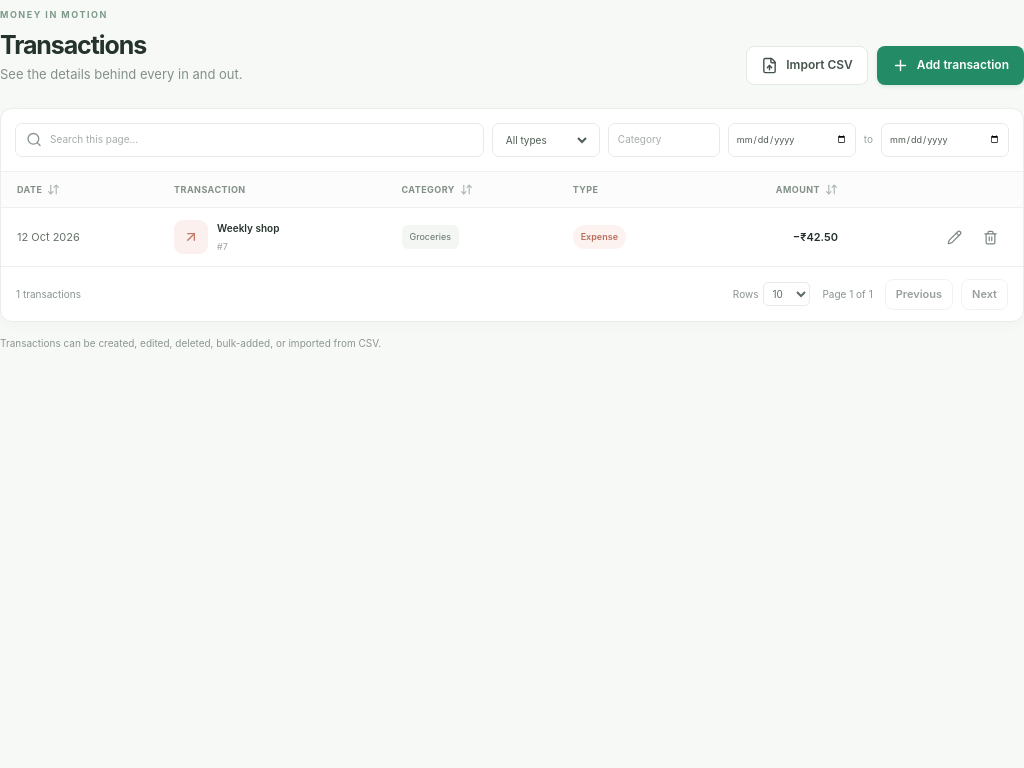
Test: TransactionsPage actions › prepopulates and saves an edited transaction, then refreshes the list
Click the button named "Edit Groceries transaction" at (954, 237), box top-left (937, 220), bottom-right (971, 254)
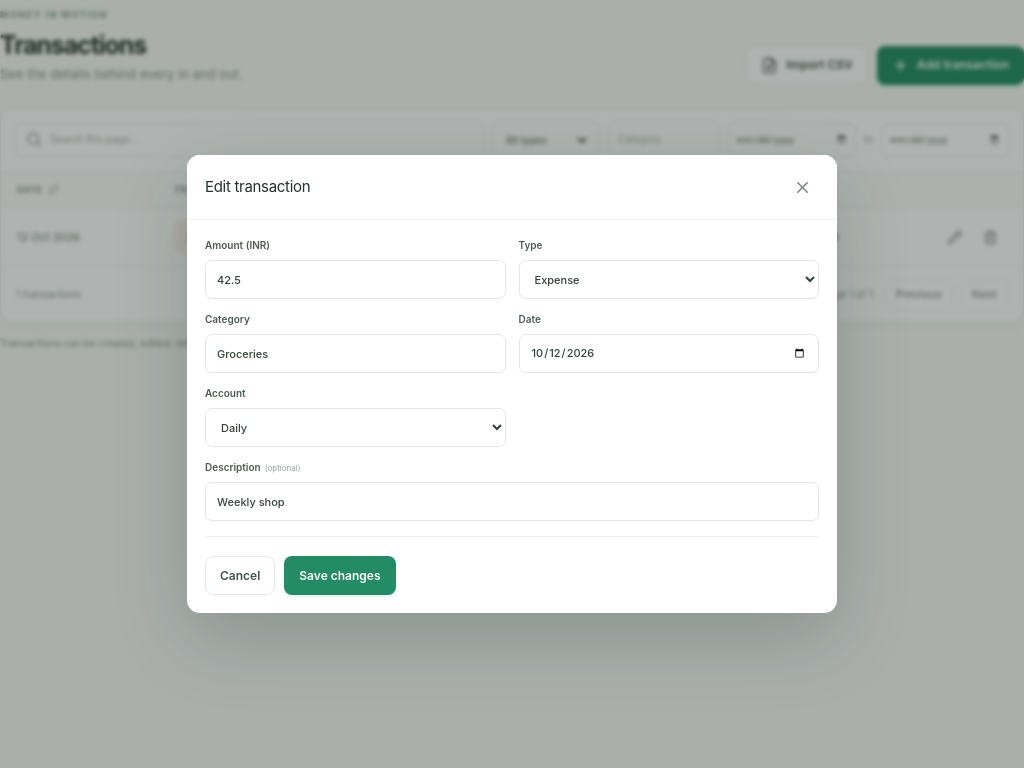
Result: the number field labelled "Amount (INR)" holds "42.5" at top-left (205, 260), bottom-right (506, 299)
Result: the field labelled "Category" holds "Groceries"
Result: the dropdown labelled "Account" shows "Daily" at top-left (205, 408), bottom-right (506, 447)
Replace the text in the field labelled "Category" with "Food" at (355, 354), box top-left (205, 334), bottom-right (506, 373)
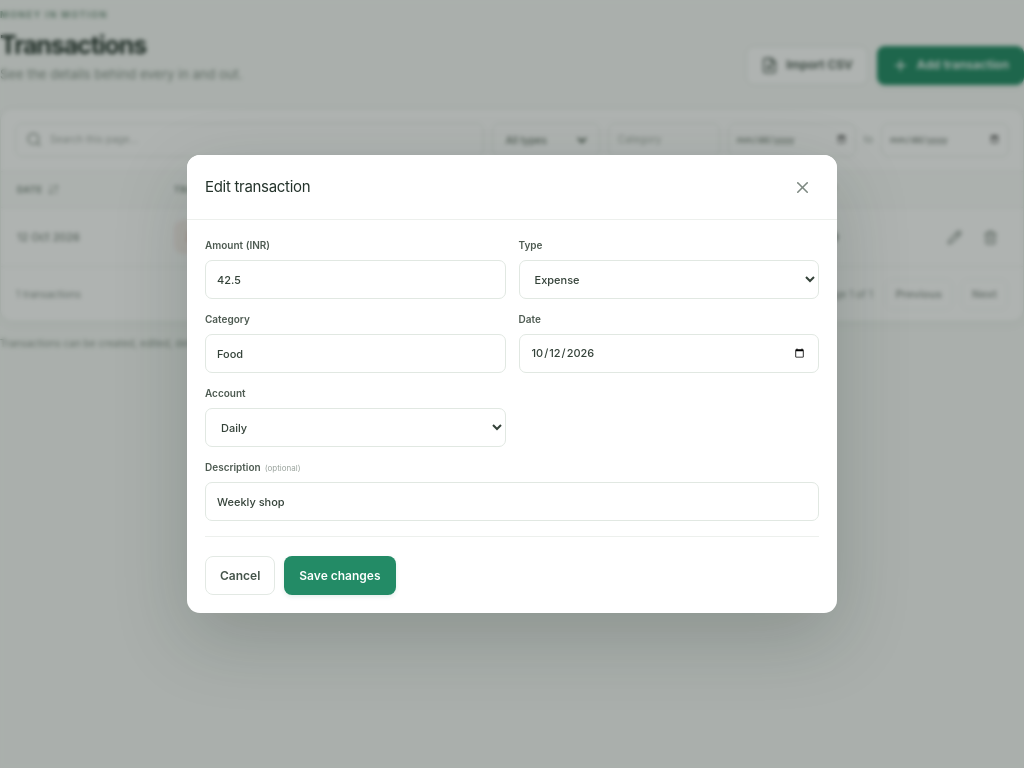
Click the button "Save changes" at (340, 576), box top-left (284, 556), bottom-right (396, 595)
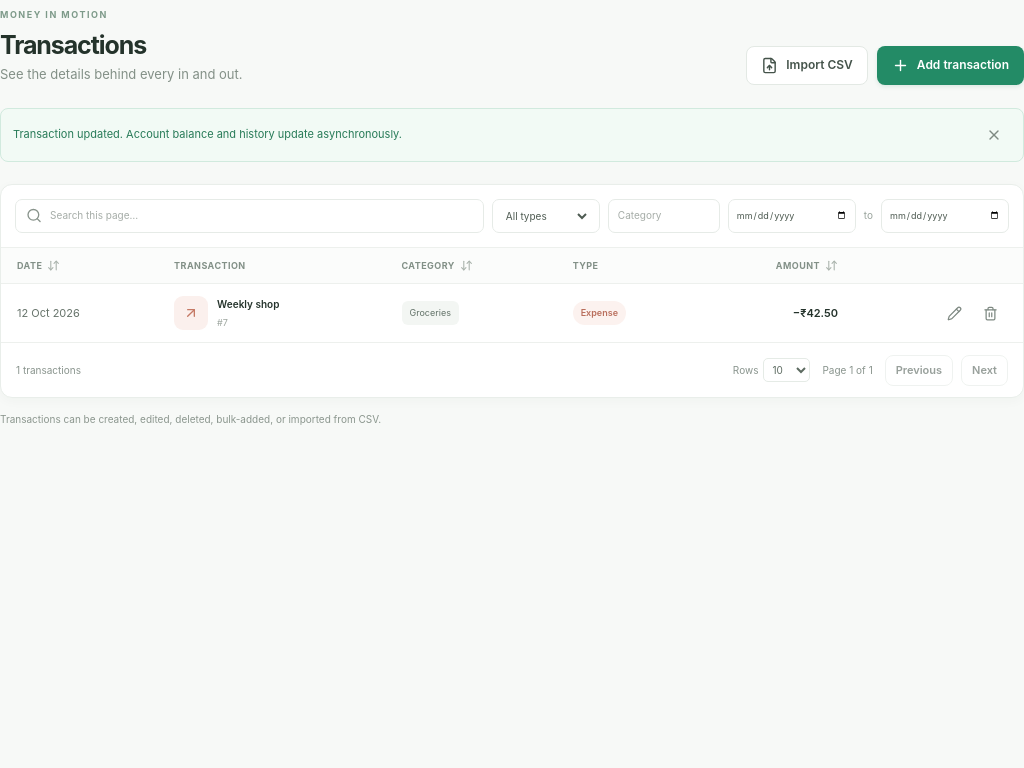
Result: the text "Transaction updated. Account balance and history update asynchronously." is shown at top-left (0, 108), bottom-right (1023, 162)
